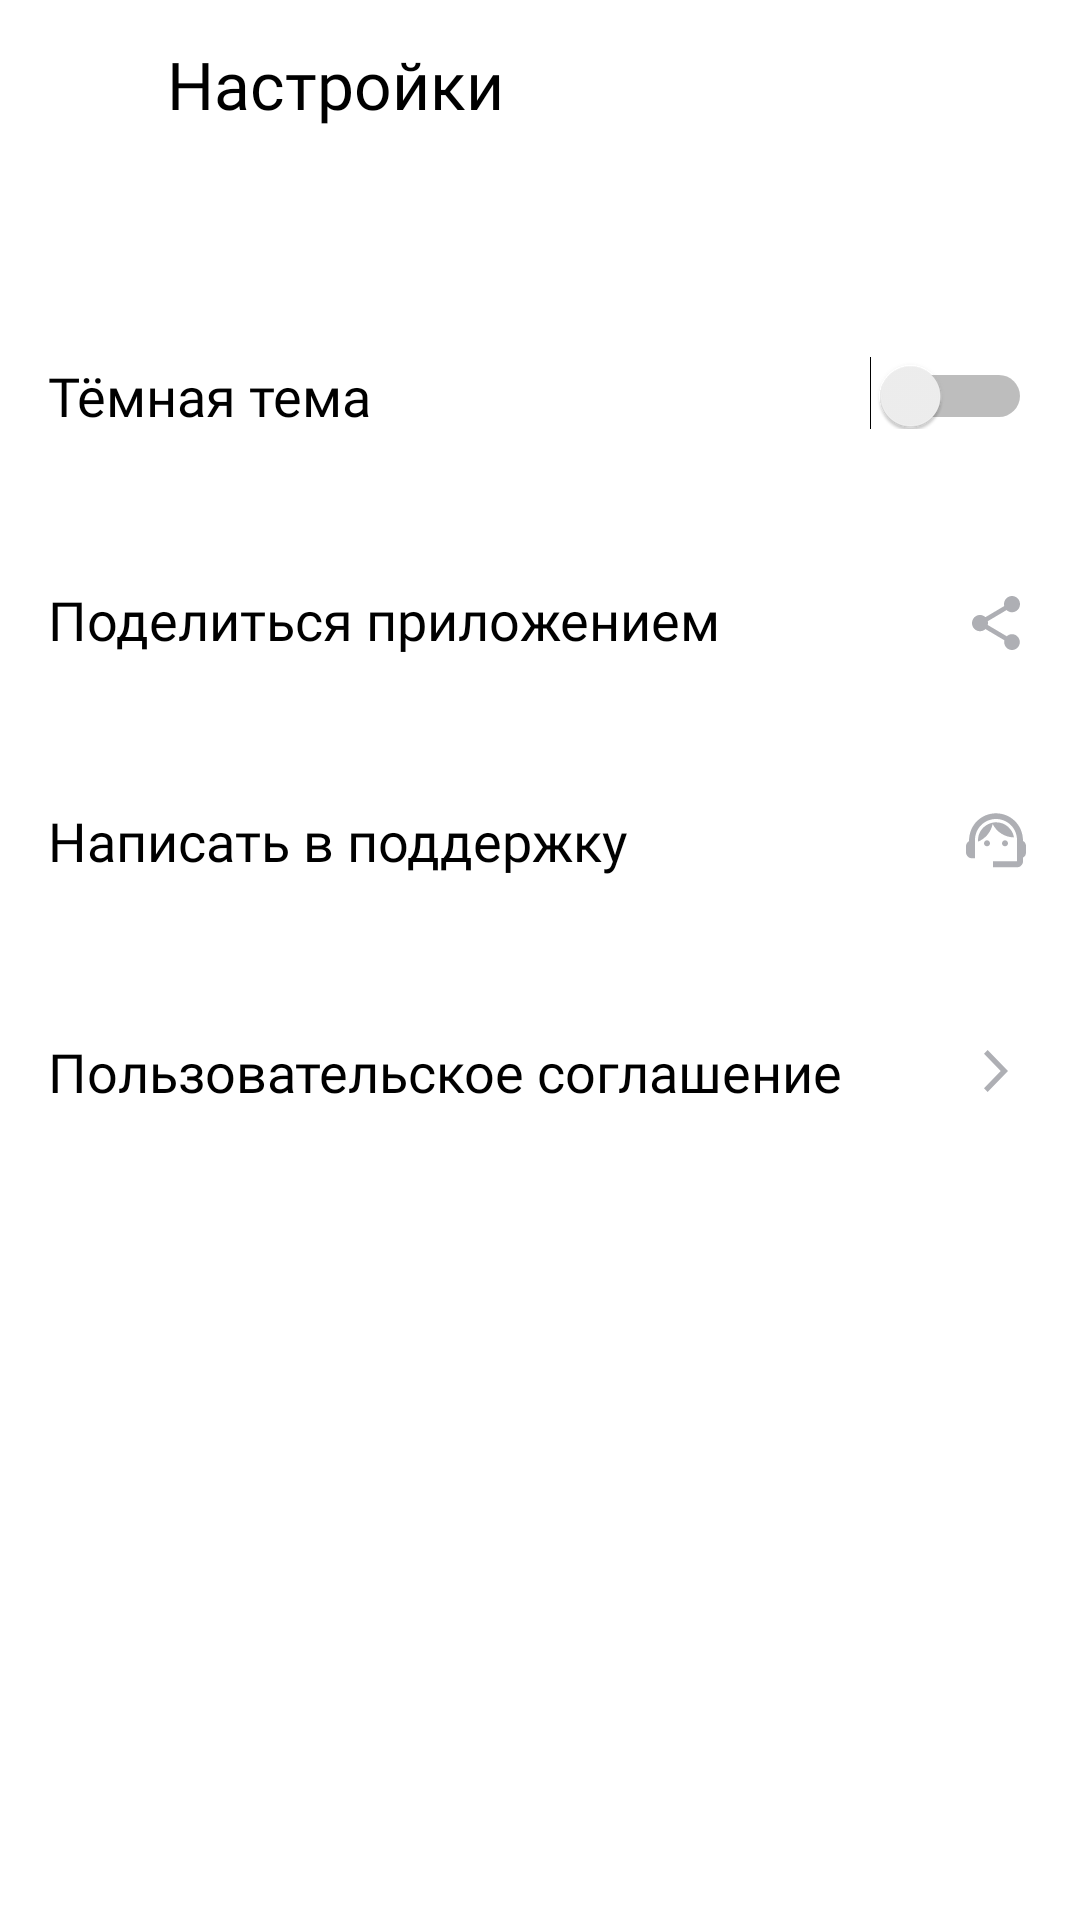

Point at icon controls on the screen. Image size 1080px x 1920px, points as [x,y].
share: [996,623]
support: [996,840]
